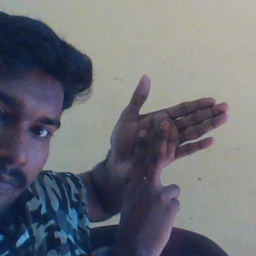N: (103, 72, 232, 224)
